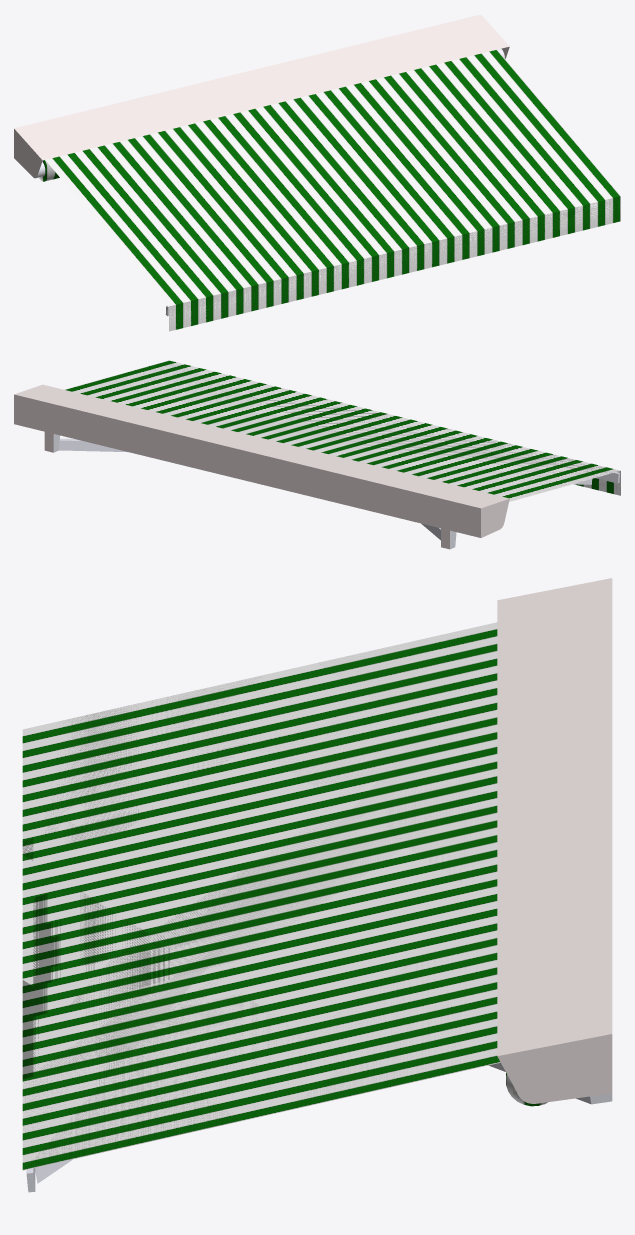
File: articulado.glb
The picture shows the model from 3 angles, top to bottom: view 1: azimuth 30°, elevation 25°; view 2: azimuth 150°, elevation 25°; view 3: azimuth 270°, elevation 25°; orthographic projection. The views are drawn at different scales.
Visible parts, largest first — view 1: Object_3, Object_2; view 2: Object_3, Object_2, Object_5; view 3: Object_3, Object_2, Object_5.
Boxes of the visible parts, left/top/right/bottom form: Object_3: left=39, top=50, right=620, bottom=331; Object_2: left=14, top=14, right=509, bottom=178; Object_3: left=64, top=360, right=620, bottom=501; Object_2: left=14, top=384, right=509, bottom=549; Object_5: left=53, top=434, right=619, bottom=549; Object_3: left=22, top=622, right=547, bottom=1170; Object_2: left=497, top=578, right=612, bottom=1103; Object_5: left=26, top=1062, right=612, bottom=1192.
Size of the model in its own units: 310 by 61.63 by 169.
4 materials, 1 textured.
